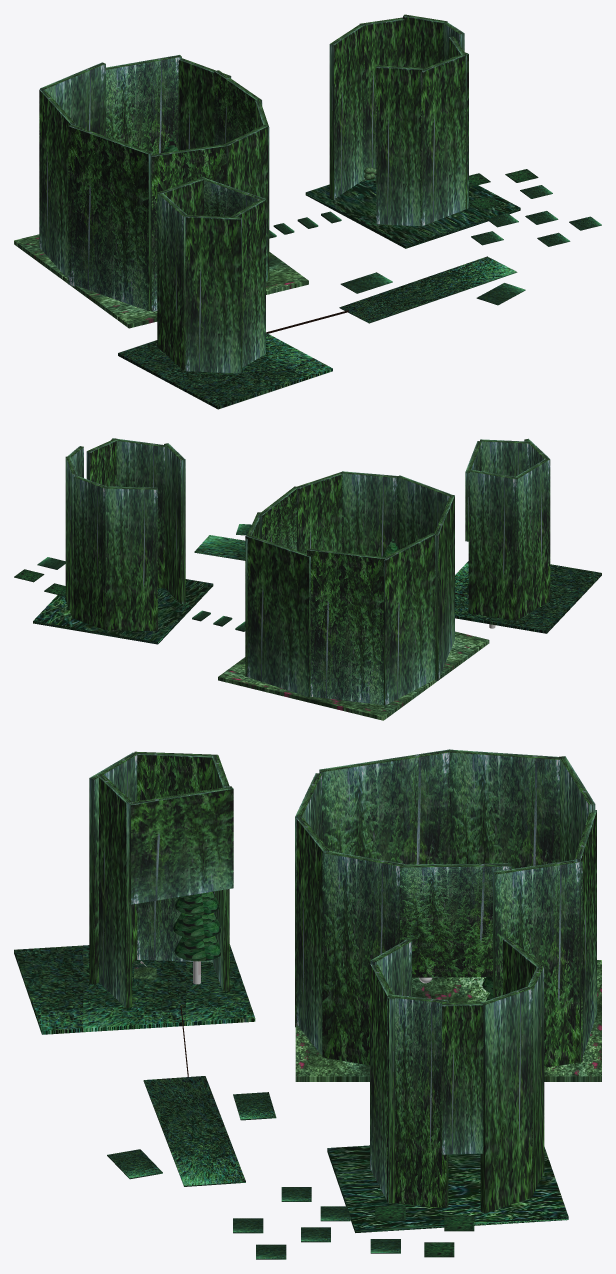
File: DONOTLOSETHIS.fbx
The picture shows the model from 3 angles, top to bottom: view 1: azimuth 30°, elevation 25°; view 2: azimuth 150°, elevation 25°; view 3: azimuth 270°, elevation 25°; orthographic projection. The views are drawn at different scales.
Visible parts, largest first — view 1: Cube__3_, Cube__39_, Cube__16_, Cube__17_, pCube3, Cube__1_, Cube__35_, Cube__2_, pCube2, Cube__38_, Cube__29_, Cube__37_ (+14 smaller); view 2: Cube, Cube__1_, Cube__2_, Cube__35_, Cube__33_, Cube__38_, Cube__13_, Cube__5_, pCube3, pCube7, Cube__6_, pCube2 (+11 smaller); view 3: pCube3, Cube__3_, Cube__6_, Cube__2_, Cube__7_, Cube__40_, Cube__14_, Cube__15_, Cube__19_, pCube2, Cube__29_, Cube__37_ (+18 smaller).
Boxes of the visible parts, x1,y1,x2,y2 form: Cube__3_: [68, 125, 151, 311]; Cube__39_: [185, 215, 241, 373]; Cube__16_: [420, 52, 468, 226]; Cube__17_: [376, 65, 422, 226]; pCube3: [118, 333, 332, 409]; Cube__1_: [106, 55, 181, 154]; Cube__35_: [329, 24, 364, 199]; Cube__2_: [39, 89, 75, 278]; pCube2: [305, 177, 520, 248]; Cube__38_: [157, 193, 186, 370]; Cube__29_: [339, 256, 517, 323]; Cube__37_: [230, 198, 265, 367]; Cube: [307, 548, 386, 704]; Cube__1_: [245, 534, 310, 697]; Cube__2_: [384, 532, 435, 705]; Cube__35_: [106, 486, 157, 631]; Cube__33_: [468, 469, 517, 620]; Cube__38_: [516, 459, 550, 620]; Cube__13_: [73, 476, 106, 630]; Cube__5_: [341, 471, 397, 556]; pCube3: [455, 561, 601, 633]; pCube7: [218, 631, 489, 720]; Cube__6_: [295, 472, 342, 553]; pCube2: [33, 579, 213, 644]; pCube3: [14, 944, 255, 1034]; Cube__3_: [319, 749, 450, 864]; Cube__6_: [322, 851, 404, 1065]; Cube__2_: [449, 749, 559, 868]; Cube__7_: [493, 860, 582, 1067]; Cube__40_: [129, 786, 233, 904]; Cube__14_: [480, 986, 532, 1213]; Cube__15_: [387, 994, 448, 1208]; Cube__19_: [400, 863, 511, 977]; pCube2: [327, 1145, 568, 1232]; Cube__29_: [143, 1076, 245, 1186]; Cube__37_: [97, 773, 132, 1008].
Bounding box in the file's own units: 5442 × 1900 × 4206.
